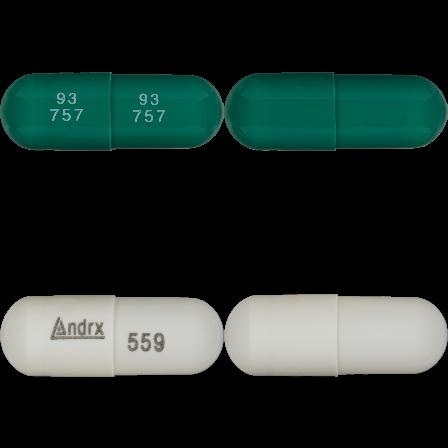42291-677: (0, 0, 224, 224)
